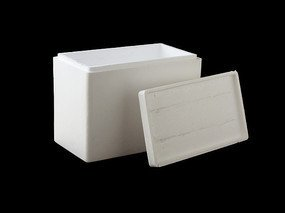5/可回收垃圾/泡沫: (53, 43, 248, 168)
